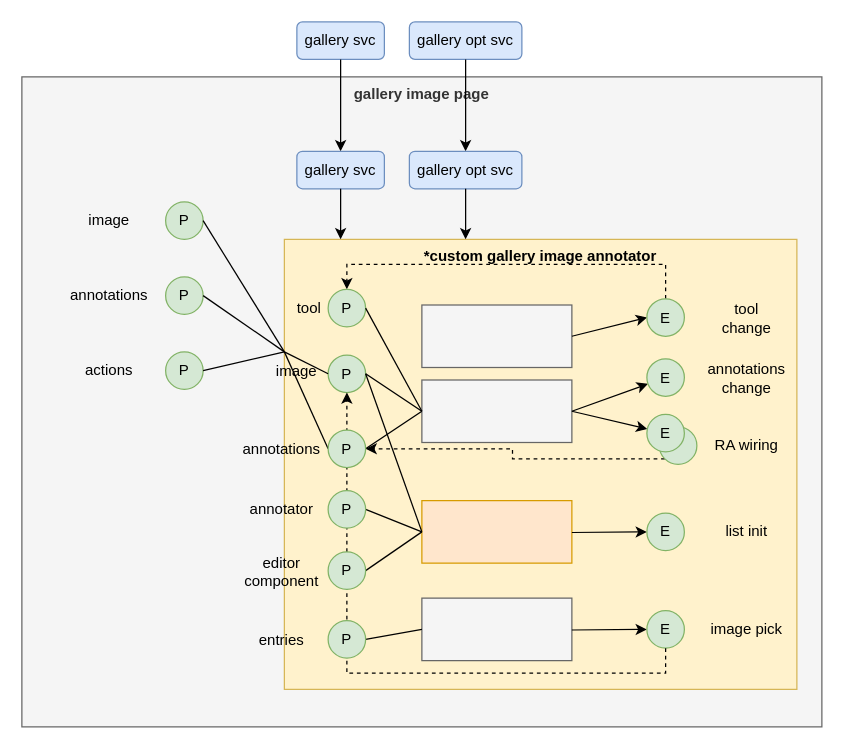
Some shapes in this 844 by 749 pixel diagram are drawn without their labels. Each missing label, with the centre of its shape:
"*custom img annotations list" belongs at point (496, 531).
"gallery list" belongs at point (496, 629).
"img w directive" belongs at point (496, 410).
"toolbar" belongs at point (496, 336).
